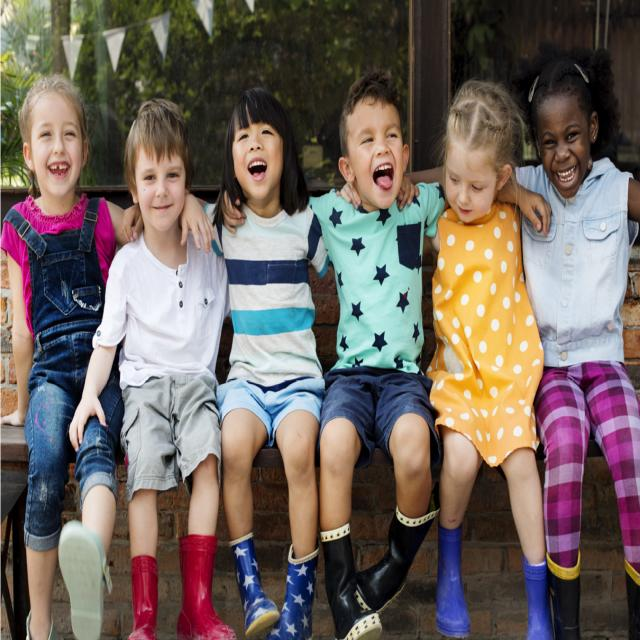child: (71, 99, 235, 640), (308, 71, 448, 640), (512, 50, 640, 640), (199, 89, 330, 640), (0, 74, 124, 640), (432, 77, 546, 640)
